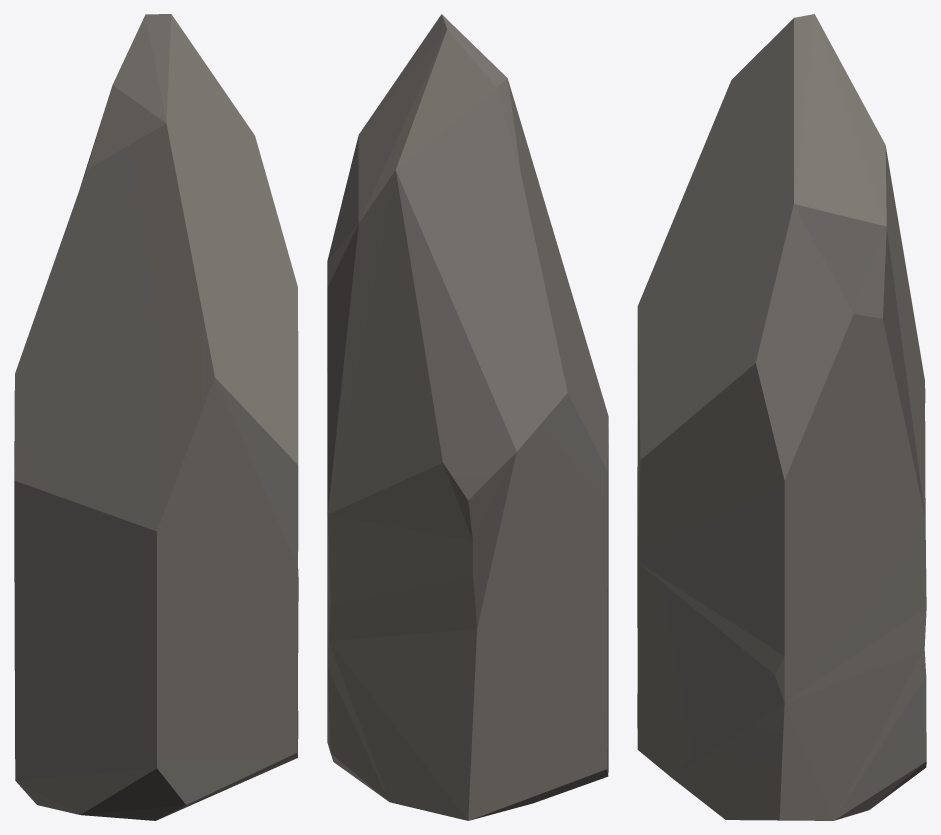
Rendered from SM_Env_Rock_Spike_01.glb.
The picture shows the model from 3 angles, left to right: view 1: azimuth 30°, elevation 25°; view 2: azimuth 150°, elevation 25°; view 3: azimuth 270°, elevation 25°; orthographic projection. The views are drawn at different scales.
Parts seen in each view (by area): view 1: SM_Env_Rock_Spike_01; view 2: SM_Env_Rock_Spike_01; view 3: SM_Env_Rock_Spike_01.
Boxes of the visible parts, x1,y1,x2,y2 form: SM_Env_Rock_Spike_01: [14, 14, 298, 820]; SM_Env_Rock_Spike_01: [327, 14, 608, 820]; SM_Env_Rock_Spike_01: [637, 14, 926, 820].
Size of the model in its own units: 0.00719 by 0.0181 by 0.00628.
1 material, 1 textured.
